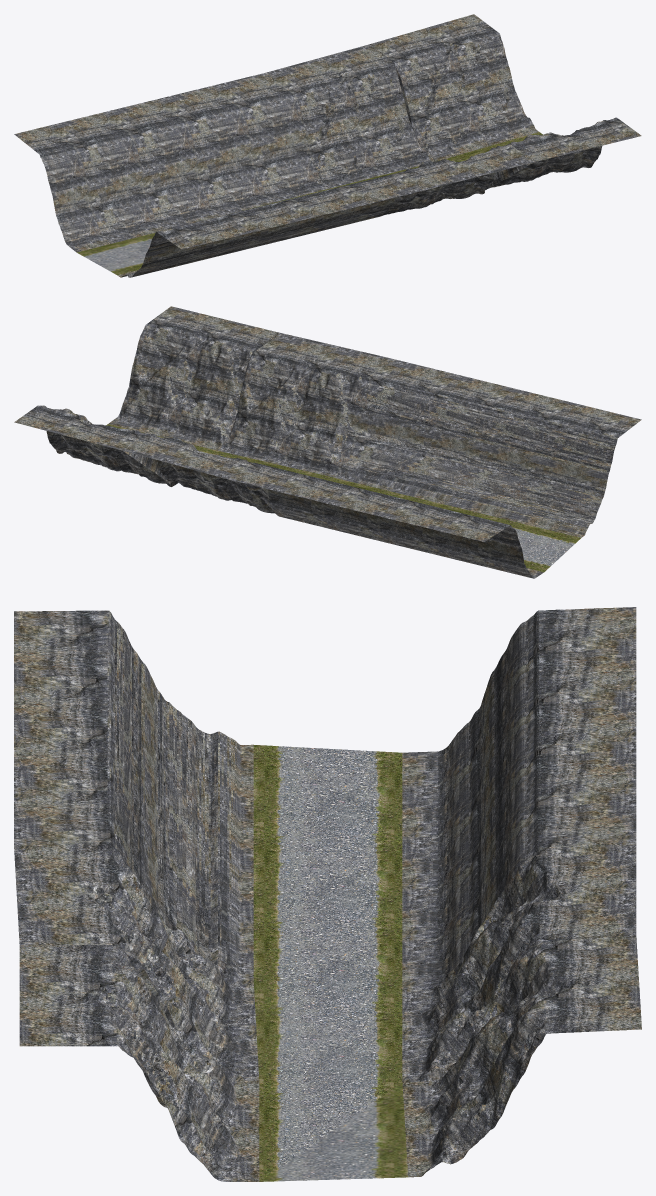
File: terrain.fbx
The picture shows the model from 3 angles, top to bottom: view 1: azimuth 30°, elevation 25°; view 2: azimuth 150°, elevation 25°; view 3: azimuth 270°, elevation 25°; orthographic projection. The views are drawn at different scales.
Parts seen in each view (by area): view 1: Landscape.002; view 2: Landscape.002; view 3: Landscape.002.
Boxes of the visible parts, bbox=[...] form: Landscape.002: bbox=[14, 14, 641, 277]; Landscape.002: bbox=[14, 306, 641, 578]; Landscape.002: bbox=[14, 607, 641, 1181].
Size of the model in its own units: 524 by 871 by 144.
Materials: 2 (2 with a texture image).
